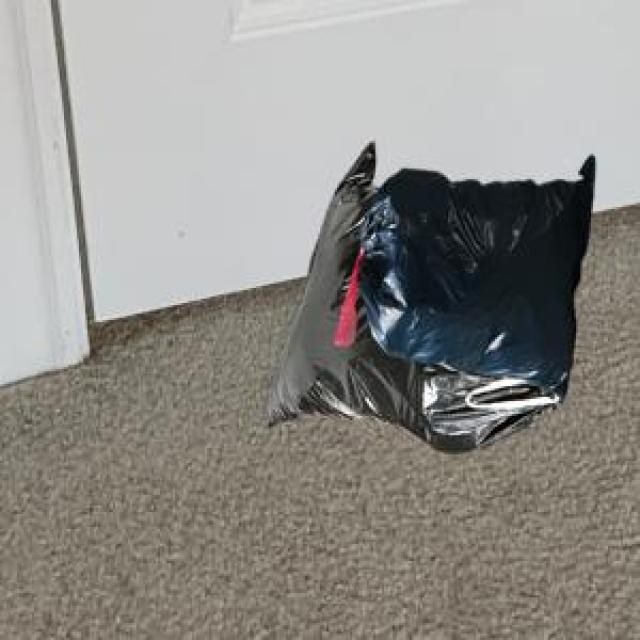miscellaneous trash: (260, 139, 555, 450), (331, 152, 591, 399)
